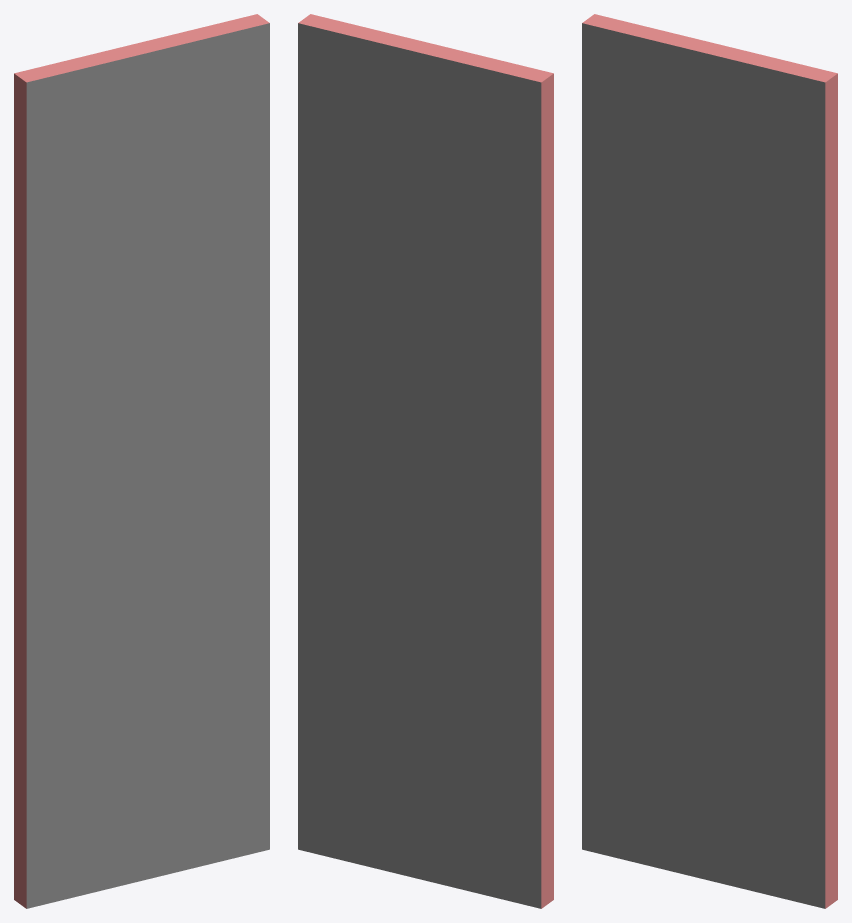
The model's file is DE_Agit02_door.gltf.
3 renders of one model, left to right at view 1: azimuth 30°, elevation 25°; view 2: azimuth 150°, elevation 25°; view 3: azimuth 330°, elevation 25°, orthographic.
Parts seen in each view (by area): view 1: DE_Agit02_door; view 2: DE_Agit02_door; view 3: DE_Agit02_door.
Boxes of the visible parts, x1,y1,x2,y2 form: DE_Agit02_door: (14,14,269,908); DE_Agit02_door: (298,14,553,908); DE_Agit02_door: (582,14,837,908).
Bounding box in the file's own units: 0.4232 × 1.37 × 0.0376.
